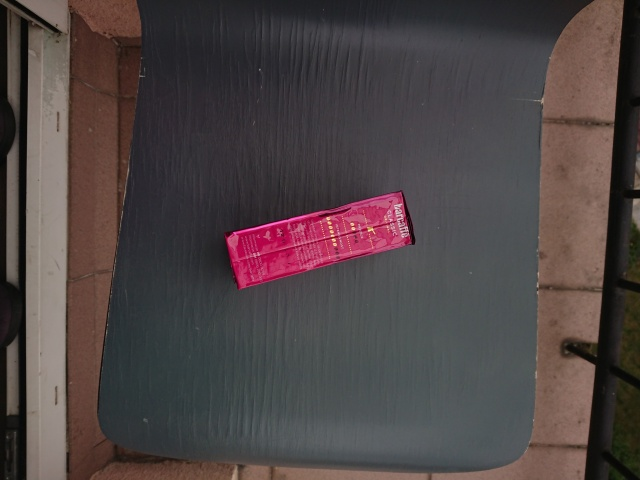Barcaffe Classic Original 225g: (221, 187, 418, 292)
